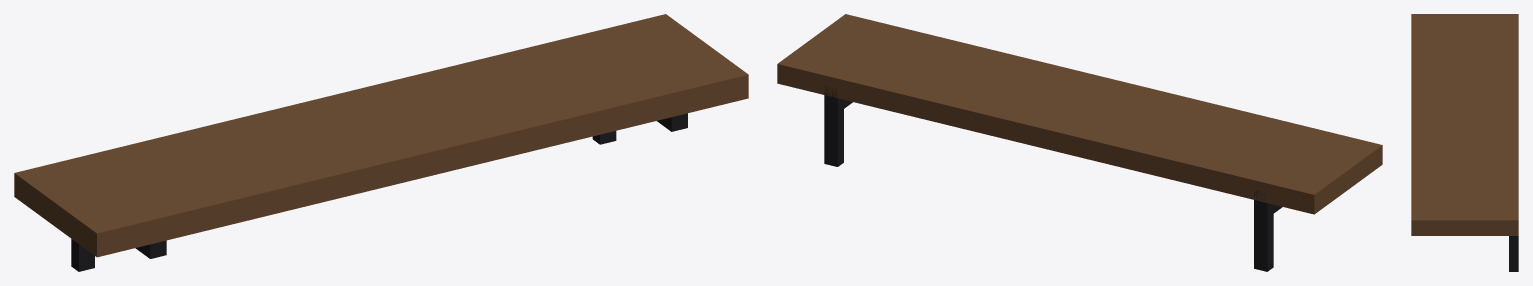
Rendered from GH_Shelf_Wall_02.glb.
The picture shows the model from 3 angles, left to right: view 1: azimuth 30°, elevation 25°; view 2: azimuth 150°, elevation 25°; view 3: azimuth 270°, elevation 25°; orthographic projection. The views are drawn at different scales.
Parts seen in each view (by area): view 1: GH_Shelf_Wall_02; view 2: GH_Shelf_Wall_02; view 3: GH_Shelf_Wall_02.
Part boxes in pixels (left/top/right/bottom): GH_Shelf_Wall_02: left=14, top=14, right=748, bottom=271; GH_Shelf_Wall_02: left=777, top=14, right=1382, bottom=271; GH_Shelf_Wall_02: left=1411, top=14, right=1518, bottom=271.
Bounding box in the file's own units: 1 × 0.1575 × 0.22.
1 material, 1 textured.
